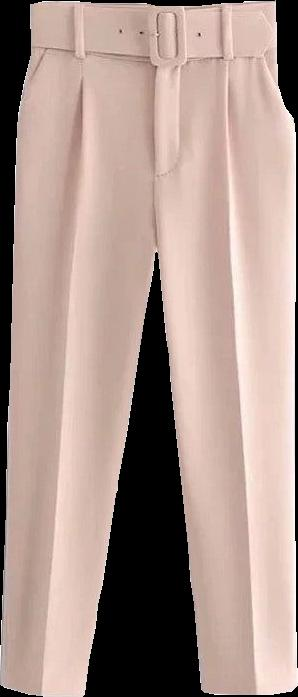Hemline: (200, 682, 297, 696), (0, 682, 89, 696)
Pantleg: (0, 3, 154, 696), (150, 0, 297, 694)
Waistline: (26, 42, 277, 64), (27, 0, 275, 13)
